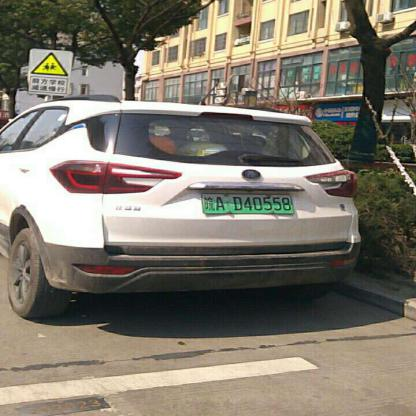lp: (202, 193, 292, 212)
